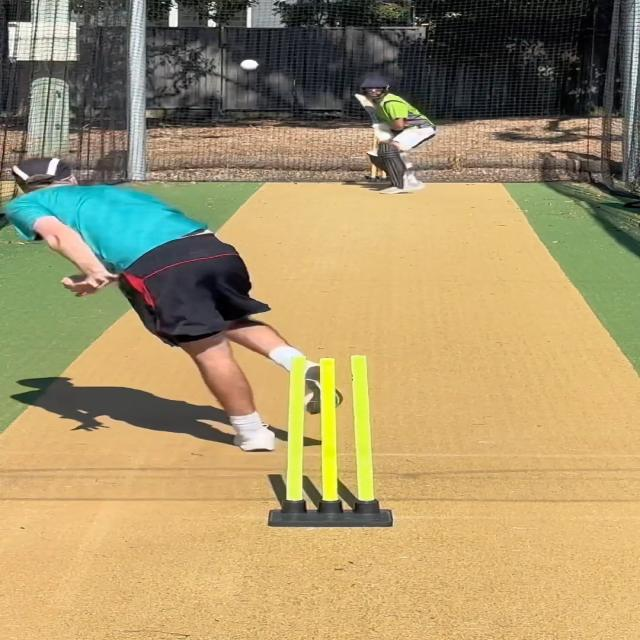Cricket ball: (238, 58, 262, 72), (367, 148, 379, 156)
